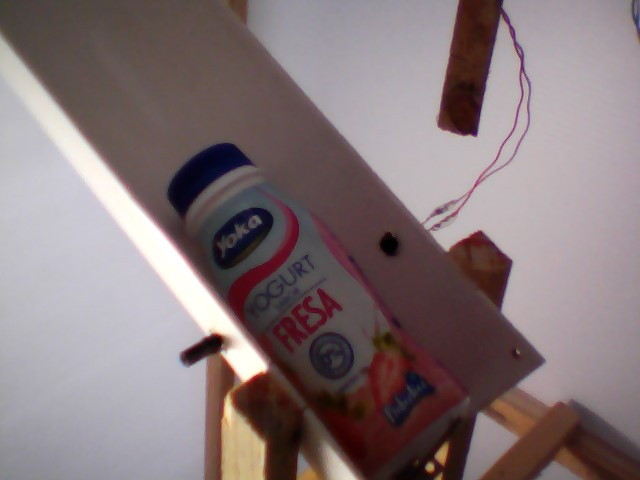plastico: (153, 137, 479, 480)
